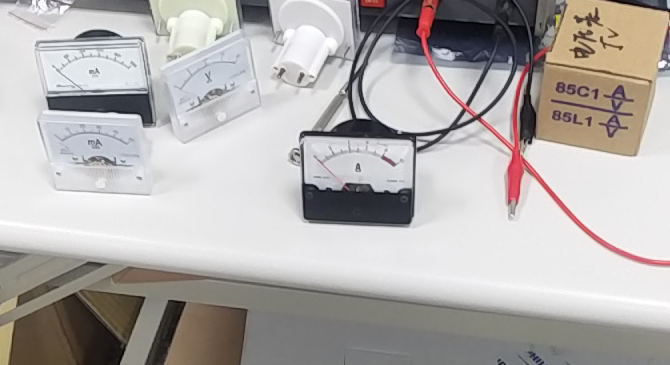Amp_Meter: (300, 134, 420, 195)
MilliAmp_Meter: (35, 39, 155, 103), (40, 114, 152, 173)
Volt_Meter: (168, 24, 257, 120)
